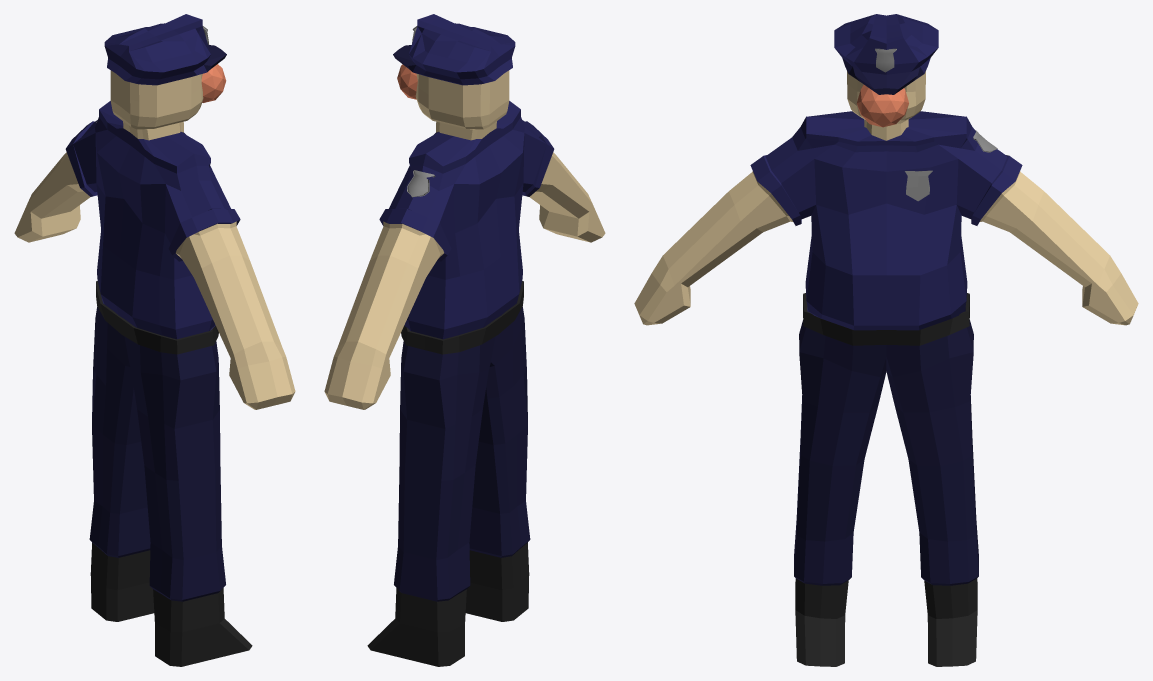
File: New_Guard_Model.fbx
The picture shows the model from 3 angles, left to right: view 1: azimuth 30°, elevation 25°; view 2: azimuth 150°, elevation 25°; view 3: azimuth 270°, elevation 25°; orthographic projection. The views are drawn at different scales.
Visible parts, largest first — view 1: Plane.003, Icosphere.025; view 2: Plane.003, Icosphere.025, Cube.062; view 3: Plane.003, Icosphere.025.
Part boxes in pixels (left/top/right/bottom): Plane.003: left=14, top=14, right=295, bottom=666; Icosphere.025: left=201, top=64, right=226, bottom=102; Plane.003: left=324, top=14, right=605, bottom=666; Icosphere.025: left=397, top=64, right=417, bottom=99; Cube.062: left=407, top=170, right=435, bottom=197; Plane.003: left=634, top=14, right=1138, bottom=666; Icosphere.025: left=856, top=84, right=908, bottom=127.
Size of the model in its own units: 192 by 1045 by 771.
